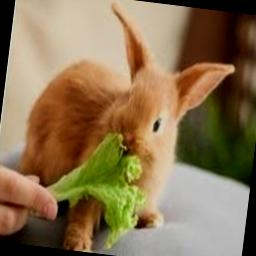rabbit: (18, 2, 234, 226), (62, 196, 103, 251)
